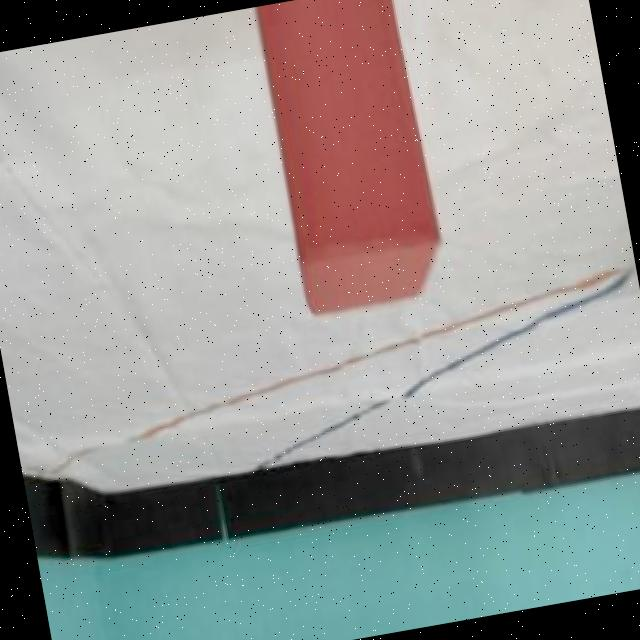redbox: (256, 0, 435, 309)
